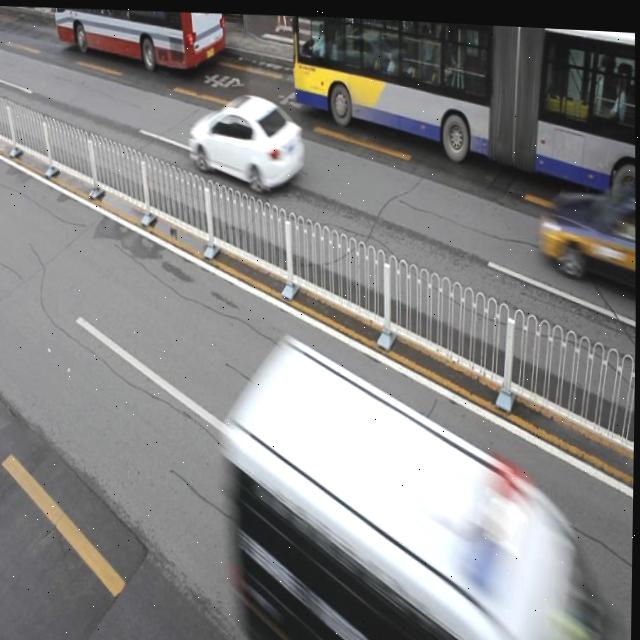car: (189, 86, 307, 190), (538, 180, 637, 282)
truck: (230, 331, 629, 640)
van: (288, 12, 637, 202), (55, 4, 226, 69)
